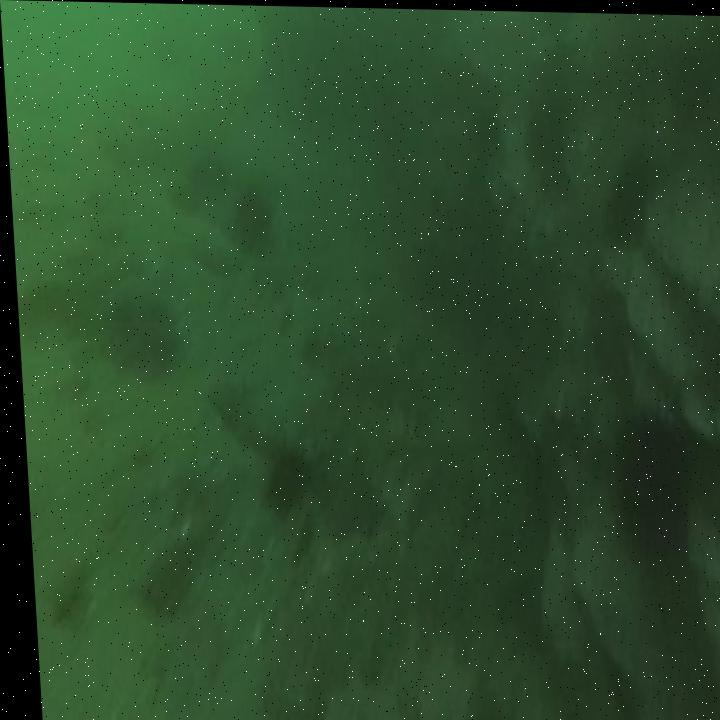echinus: (613, 424, 684, 556), (597, 168, 643, 235), (260, 447, 302, 513), (231, 187, 268, 248), (525, 110, 564, 162)
